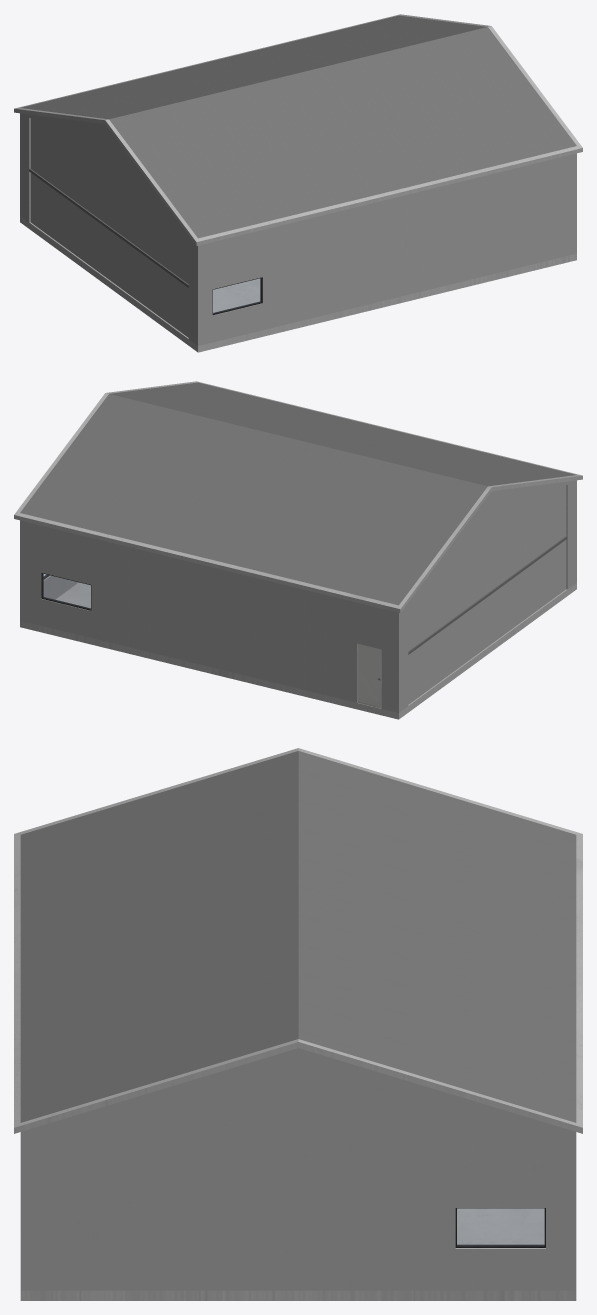
File: gen_open_hangar06_shut-12x15x4-cbj_LOD00.gltf
3 views of the same model, one above another, from view 1: azimuth 30°, elevation 25°; view 2: azimuth 150°, elevation 25°; view 3: azimuth 270°, elevation 25° (orthographic). The views are drawn at different scales.
Parts seen in each view (by area): view 1: Cube.018; view 2: Cube.018; view 3: Cube.018.
Part boxes in pixels (x1,y1,x2,y2): Cube.018: [14, 14, 582, 352]; Cube.018: [14, 381, 582, 719]; Cube.018: [14, 748, 582, 1300].
Size of the model in its own units: 15.4 by 6.4 by 12.6.
